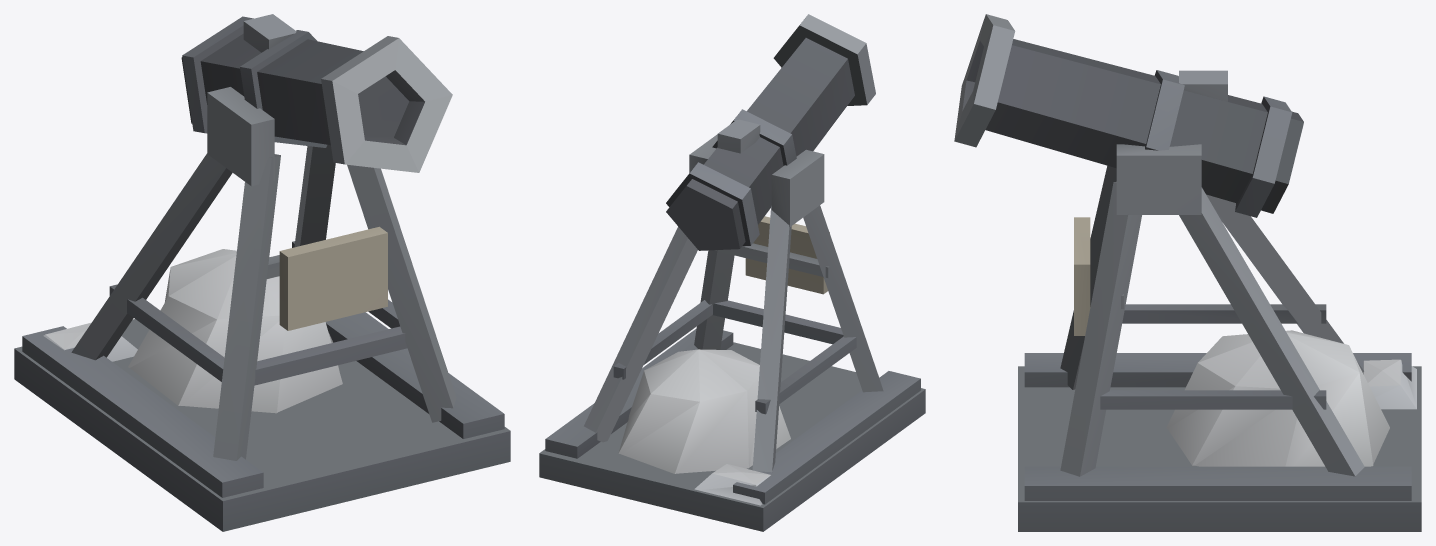
Rendered from exploder.lod1.glb.
The picture shows the model from 3 angles, left to right: view 1: azimuth 30°, elevation 25°; view 2: azimuth 150°, elevation 25°; view 3: azimuth 270°, elevation 25°; orthographic projection. The views are drawn at different scales.
Bounding box in the file's own units: 1.96 × 3.01 × 2.85.
